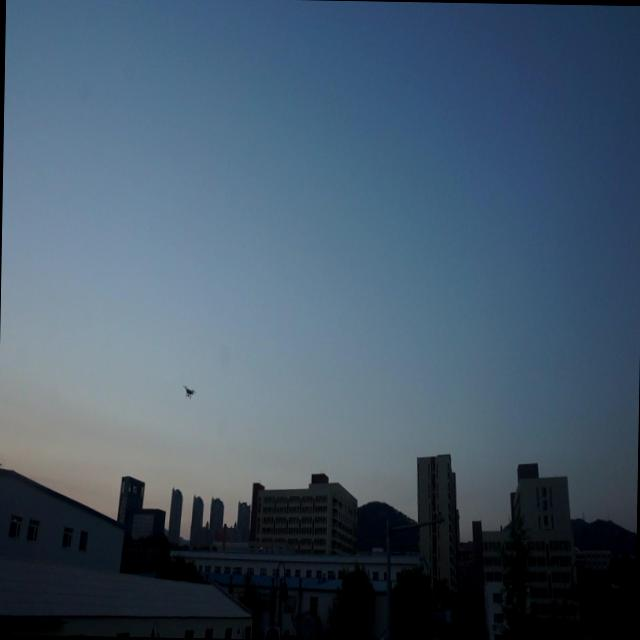drone: (182, 382, 196, 401)
